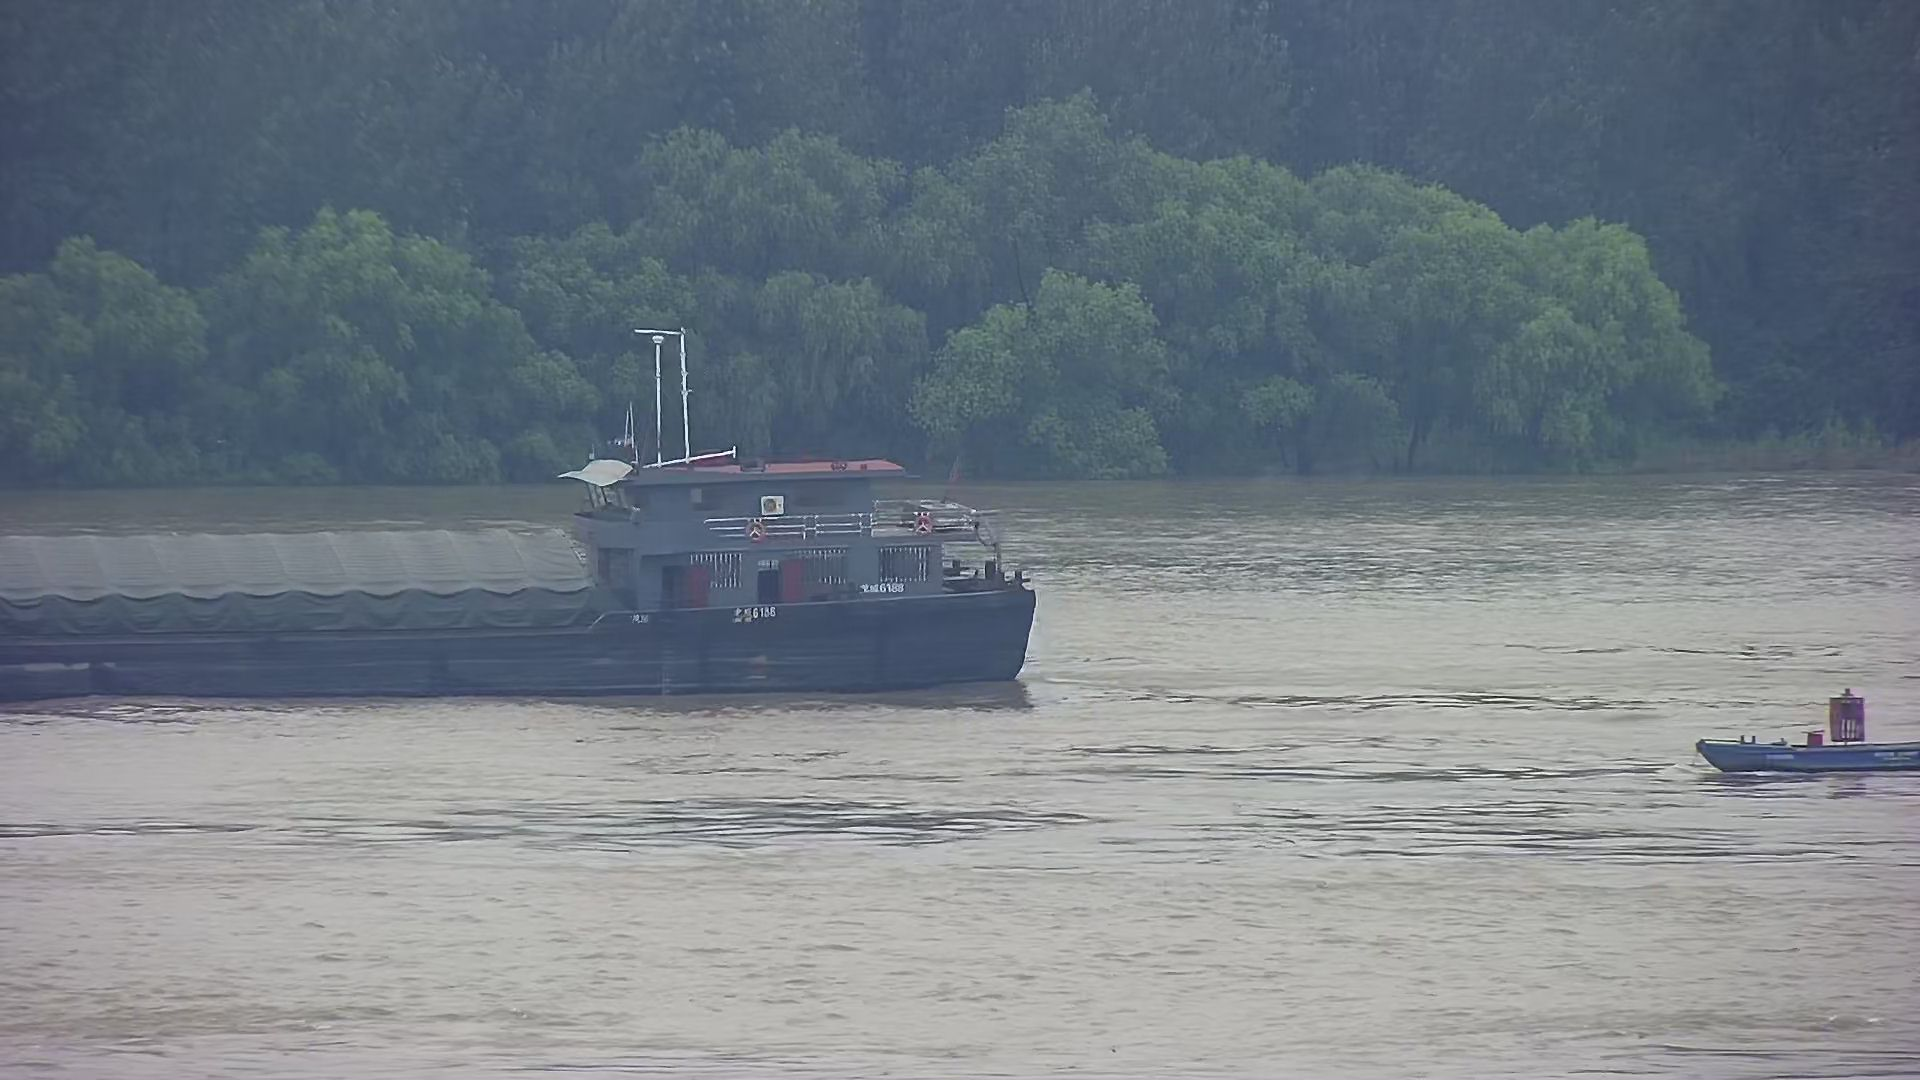boat: (1677, 669, 1920, 785)
ship: (1, 442, 1050, 709)
